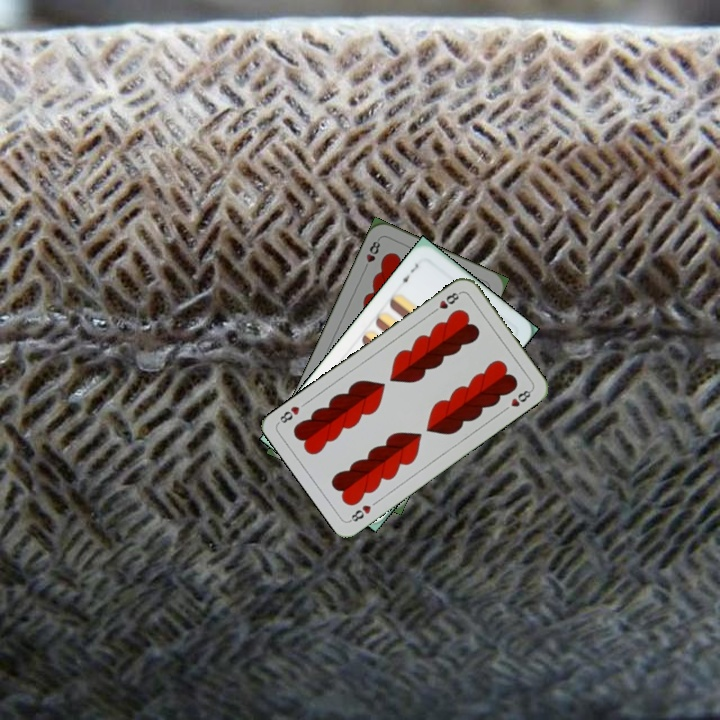E7: (395, 259, 421, 288)
H8: (428, 288, 463, 316), (360, 235, 383, 273), (346, 501, 374, 524)
